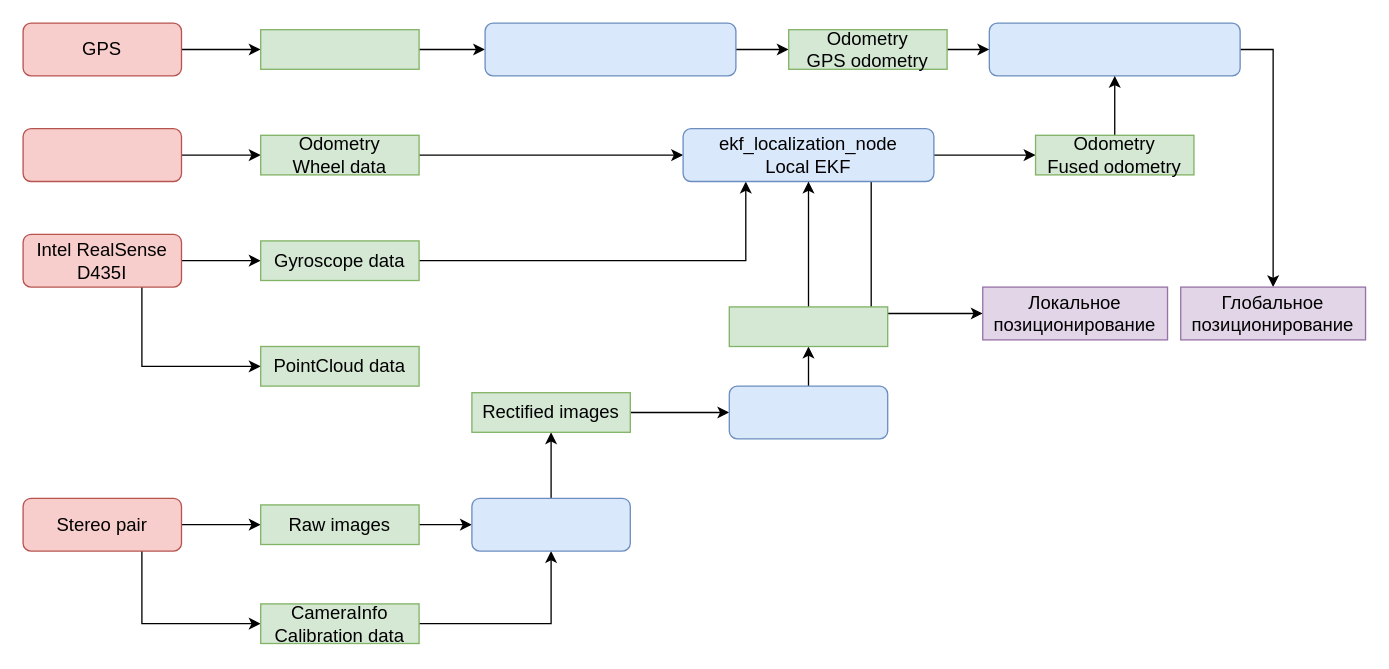
This 1389x669 diagram has some shape labels left out. Here are the shapes that lost their labels. From the top down, the centre of each, then its label:
At (x=339, y=48): "Pose + Velocity Position data".
At (x=610, y=49): "navsat_transform_node".
At (x=1114, y=49): "ekf_localization_node Global EKF".
At (x=102, y=154): "Wheel encoders".
At (x=808, y=326): "Odometry Camera odometry".
At (x=808, y=412): "Visual odometry".
At (x=550, y=524): "StereoImageProc".
